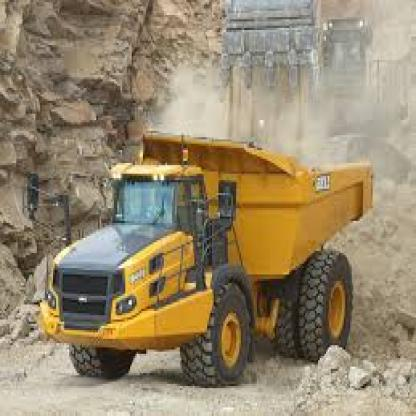dump_truck: (37, 105, 385, 388)
